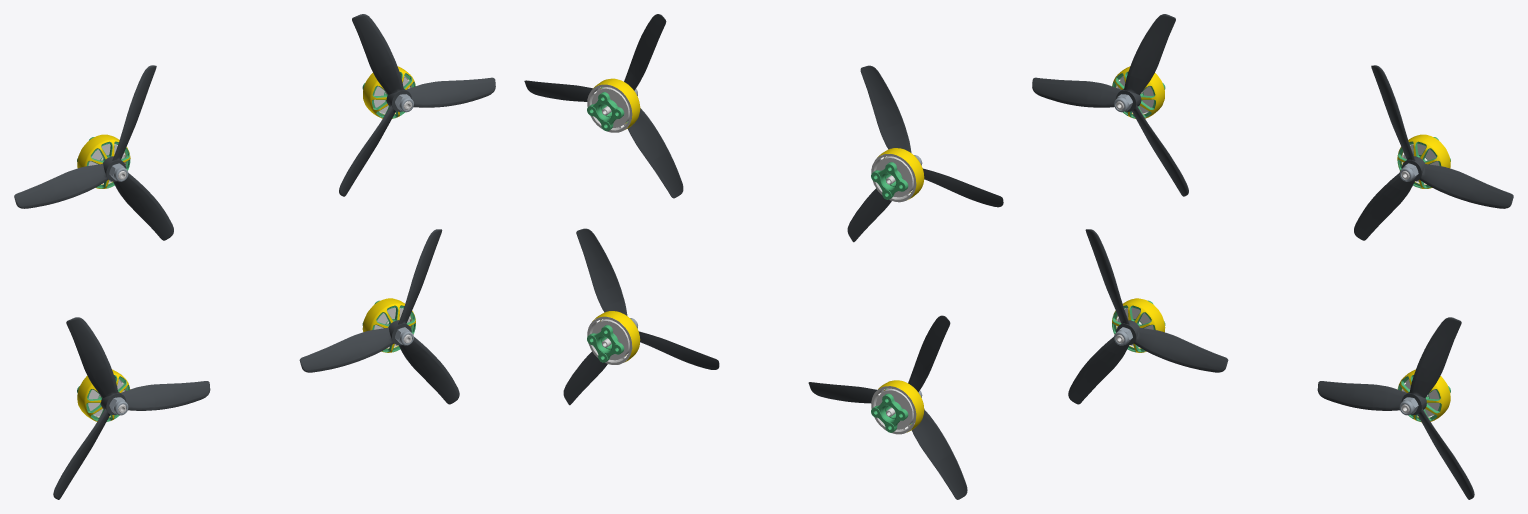
Rendered from drive.glb.
The picture shows the model from 3 angles, left to right: view 1: azimuth 30°, elevation 25°; view 2: azimuth 150°, elevation 25°; view 3: azimuth 330°, elevation 25°; orthographic projection.
Parts seen in each view (by area): view 1: prop-3, prop-2, prop-1, prop-4, motor-1-body-3, motor-3-body-2, motor-4-body-3, motor-2-body-0; view 2: prop-2, prop-3, prop-1, prop-4, motor-3-body-3, motor-1-body-1, motor-4-body-1, motor-2-body-3, motor-2-body-0, motor-4-body-3, motor-1-body-3, motor-3-body-2; view 3: prop-1, prop-4, prop-3, prop-2, motor-2-body-0, motor-4-body-3, motor-3-body-2, motor-1-body-3.
Part boxes in pixels (x1,y1,x2,y2): prop-3: [339, 14, 495, 196]; prop-2: [53, 317, 210, 499]; prop-1: [299, 229, 459, 404]; prop-4: [14, 65, 173, 240]; motor-1-body-3: [77, 134, 130, 188]; motor-3-body-2: [362, 298, 415, 352]; motor-4-body-3: [77, 369, 130, 421]; motor-2-body-0: [363, 66, 415, 118]; prop-2: [808, 315, 967, 499]; prop-3: [524, 14, 683, 198]; prop-1: [563, 228, 719, 405]; prop-4: [847, 65, 1003, 242]; motor-3-body-3: [587, 317, 632, 362]; motor-1-body-1: [871, 156, 916, 199]; motor-4-body-1: [871, 388, 916, 432]; motor-2-body-3: [587, 85, 629, 131]; motor-2-body-0: [587, 78, 640, 132]; motor-4-body-3: [871, 380, 924, 434]; motor-1-body-3: [871, 148, 924, 202]; motor-3-body-2: [587, 311, 640, 364]; prop-1: [1317, 317, 1474, 499]; prop-4: [1032, 14, 1188, 196]; prop-3: [1354, 65, 1513, 240]; prop-2: [1068, 229, 1228, 404]; motor-2-body-0: [1397, 134, 1450, 188]; motor-4-body-3: [1112, 298, 1165, 352]; motor-3-body-2: [1397, 369, 1450, 422]; motor-1-body-3: [1112, 66, 1164, 118].
Size of the model in its own units: 0.2998 by 0.2463 by 0.0308.
